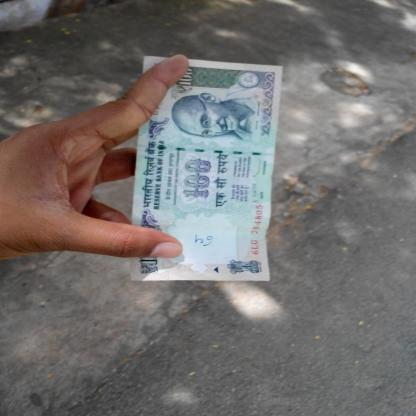Old100Front: (132, 55, 284, 282)
